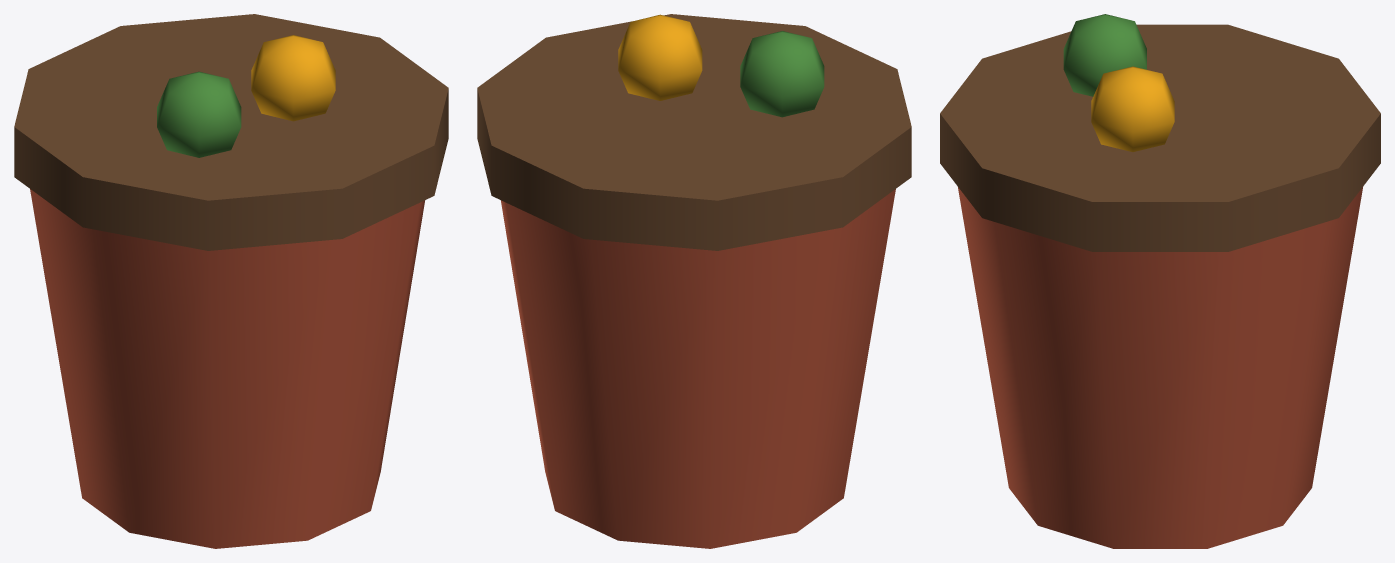
The model's file is item_seeds.glb.
3 views of the same model, side by side, from view 1: azimuth 30°, elevation 25°; view 2: azimuth 150°, elevation 25°; view 3: azimuth 270°, elevation 25° (orthographic).
Parts seen in each view (by area): view 1: item_seeds; view 2: item_seeds; view 3: item_seeds.
Boxes of the visible parts, x1=… form: item_seeds: x1=14, y1=14, x2=448, y2=548; item_seeds: x1=477, y1=14, x2=911, y2=548; item_seeds: x1=940, y1=14, x2=1380, y2=548.
Bounding box in the file's own units: 0.3043 × 0.355 × 0.32.
